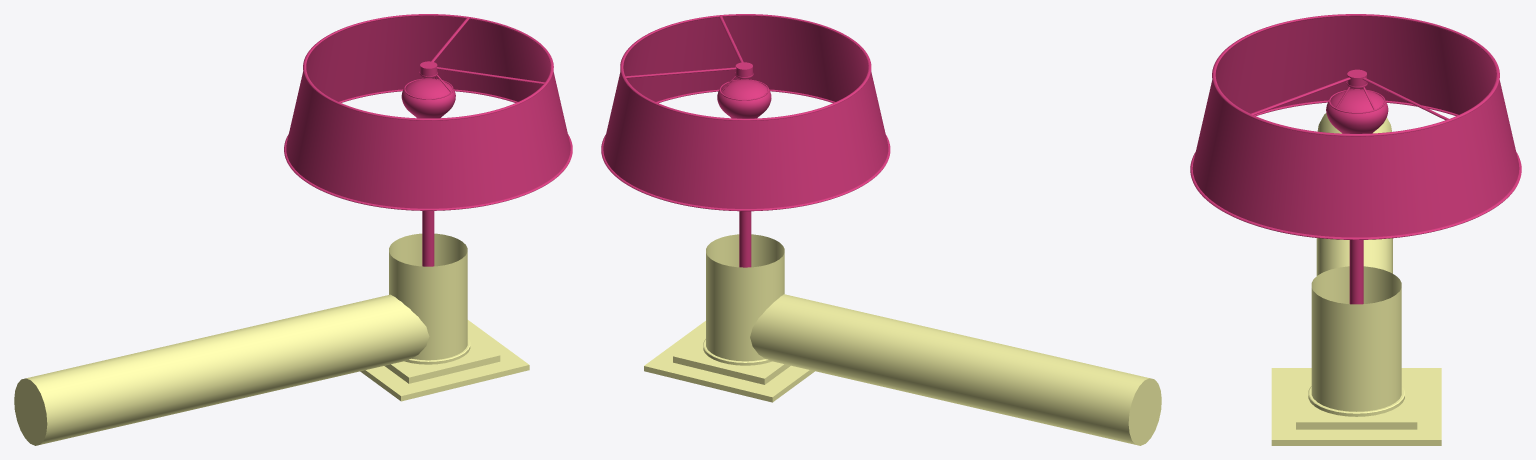
Rendered from Lamparasalma.obj.
3 views of the same model, side by side, from view 1: azimuth 30°, elevation 25°; view 2: azimuth 150°, elevation 25°; view 3: azimuth 270°, elevation 25° (orthographic). The views are drawn at different scales.
Visible parts, largest first — view 1: polySurface25; view 2: polySurface25; view 3: polySurface25.
Boxes of the visible parts, x1,y1,x2,y2 form: polySurface25: (14,14,572,445); polySurface25: (601,14,1161,445); polySurface25: (1190,14,1521,445).
Bounding box in the file's own units: 81.58 × 43.65 × 38.97.
Materials: 3 (3 with a texture image).
